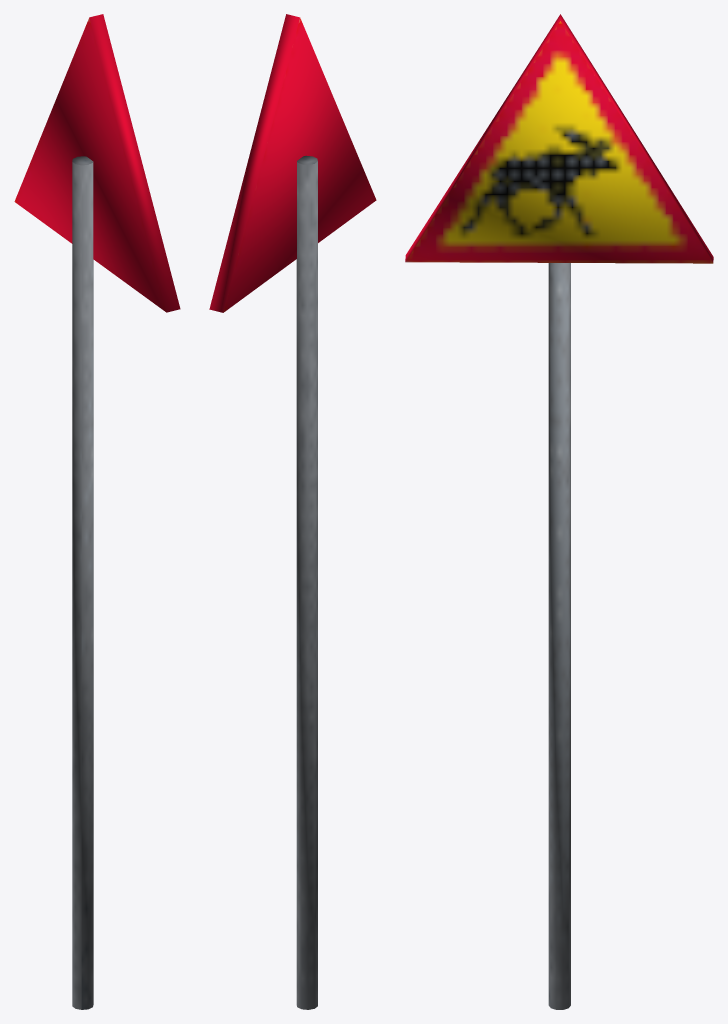
The model's file is yieldsign.fbx.
3 views of the same model, side by side, from view 1: azimuth 30°, elevation 25°; view 2: azimuth 150°, elevation 25°; view 3: azimuth 270°, elevation 25° (orthographic).
Visible parts, largest first — view 1: Cylinder; view 2: Cylinder; view 3: Cylinder.
Boxes of the visible parts, x1,y1,x2,y2 form: Cylinder: (14, 14, 180, 1009); Cylinder: (209, 14, 376, 1009); Cylinder: (405, 14, 713, 1009).
Bounding box in the file's own units: 46.23 × 1419 × 398.
